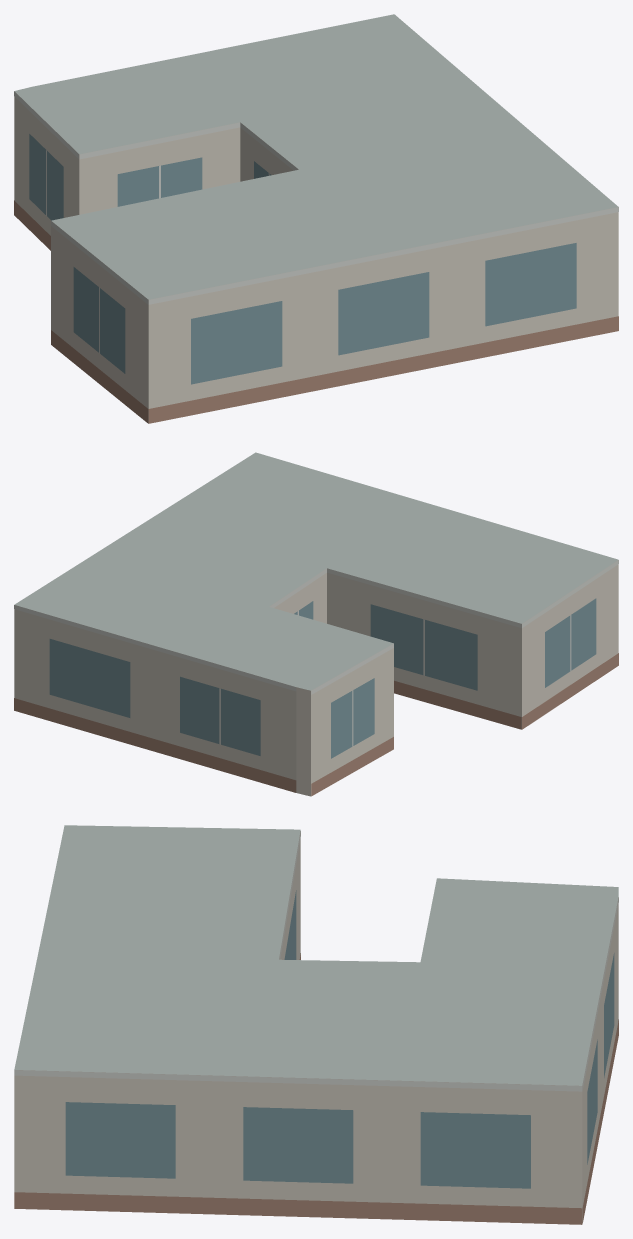
File: survey-upis-32760458.glb
3 renders of one model, top to bottom at view 1: azimuth 30°, elevation 25°; view 2: azimuth 150°, elevation 25°; view 3: azimuth 270°, elevation 25°, orthographic. The views are drawn at different scales.
Parts seen in each view (by area): view 1: survey-upis-32760458.tmp; view 2: survey-upis-32760458.tmp; view 3: survey-upis-32760458.tmp.
Boxes of the visible parts, bbox=[...] form: survey-upis-32760458.tmp: bbox=[14, 14, 618, 423]; survey-upis-32760458.tmp: bbox=[14, 452, 618, 796]; survey-upis-32760458.tmp: bbox=[14, 825, 618, 1224].
Bounding box in the file's own units: 12.29 × 3.05 × 12.05.
